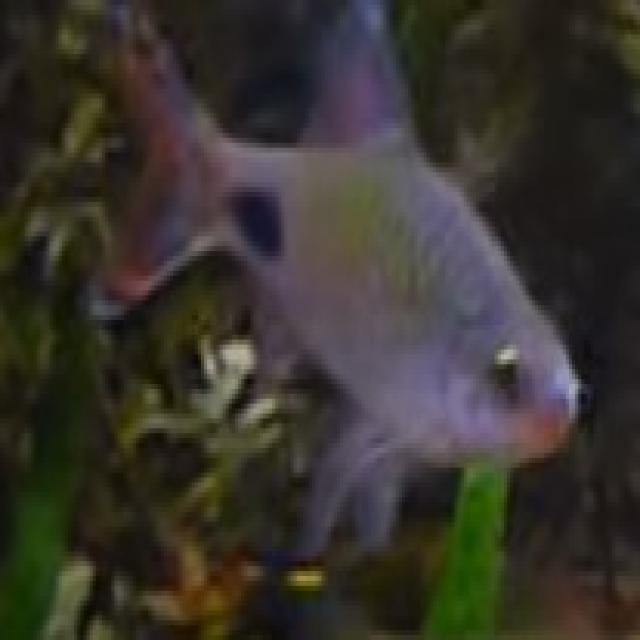Black-Spotted-Barb: (74, 3, 600, 574)
